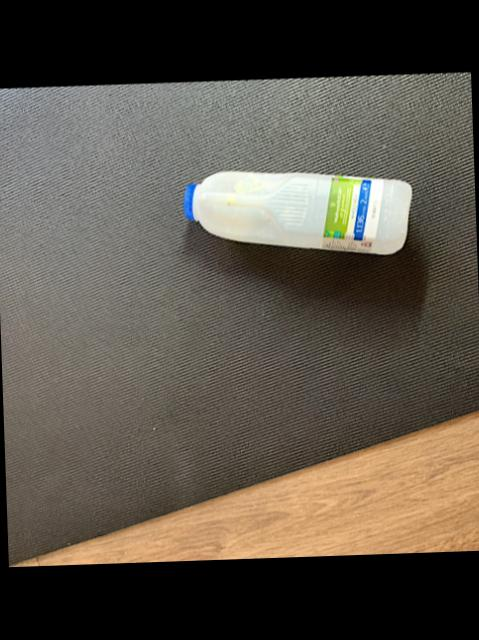plastic: (186, 171, 412, 253)
